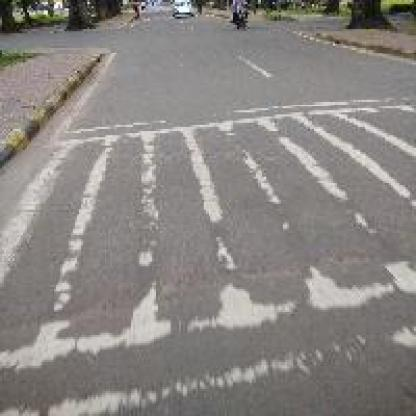Speed Bump: (0, 91, 412, 414)
